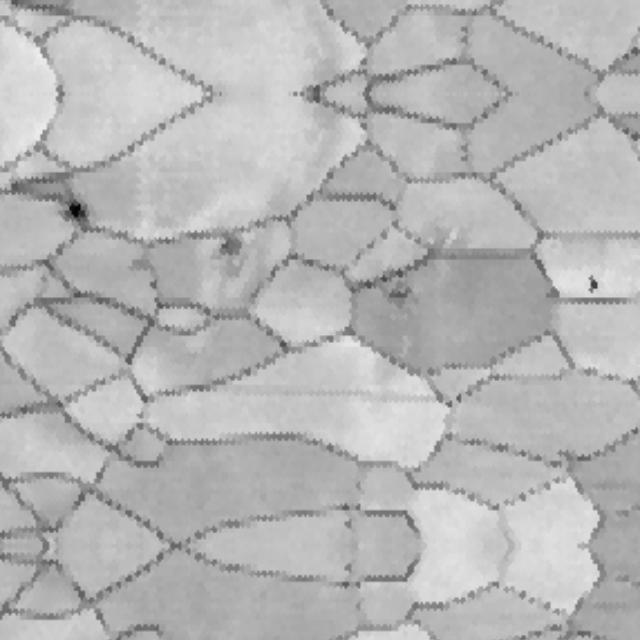good_void: (380, 281, 417, 314), (64, 196, 88, 224), (218, 233, 244, 258), (586, 275, 599, 297), (343, 518, 352, 532), (343, 562, 352, 576)
